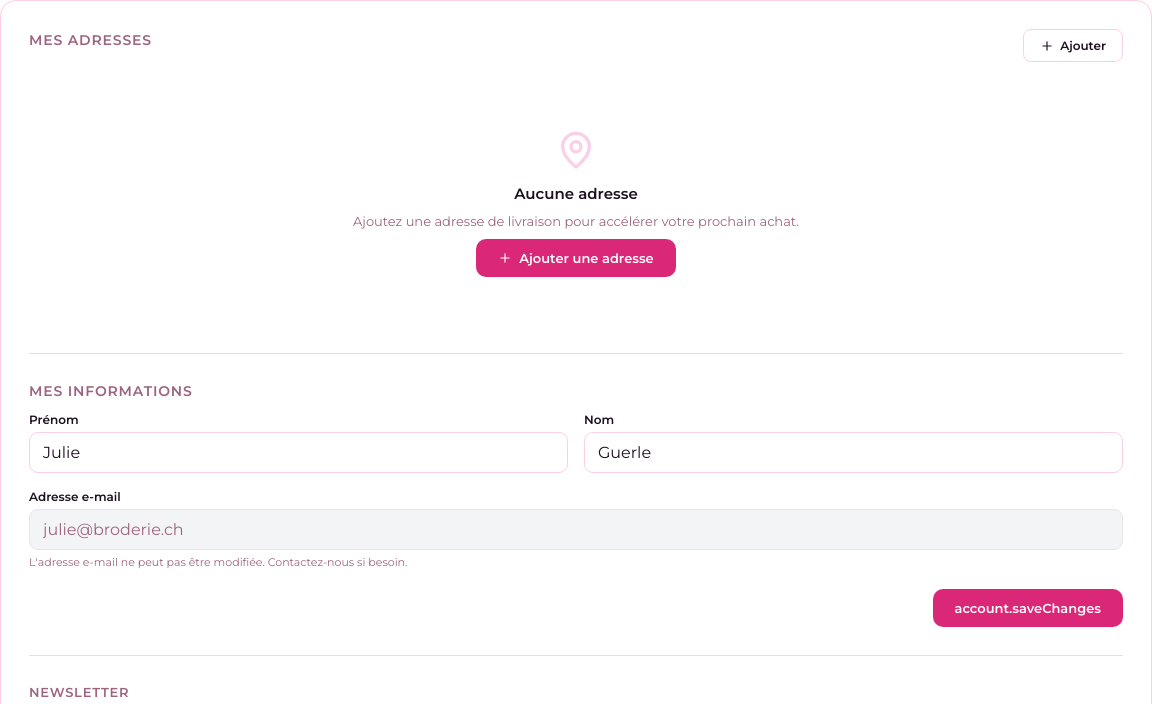
TabProfile — erreurs du serveur (CLI-06) › affiche sous le champ l'erreur de validation renvoyée par le serveur
The image size is (1152, 704).
Expected: the field labelled "Prénom" is shown, [29,432,568,473]
Step 1. Click the button "account.saveChanges" → point(1028, 608), box [932,589,1123,627]
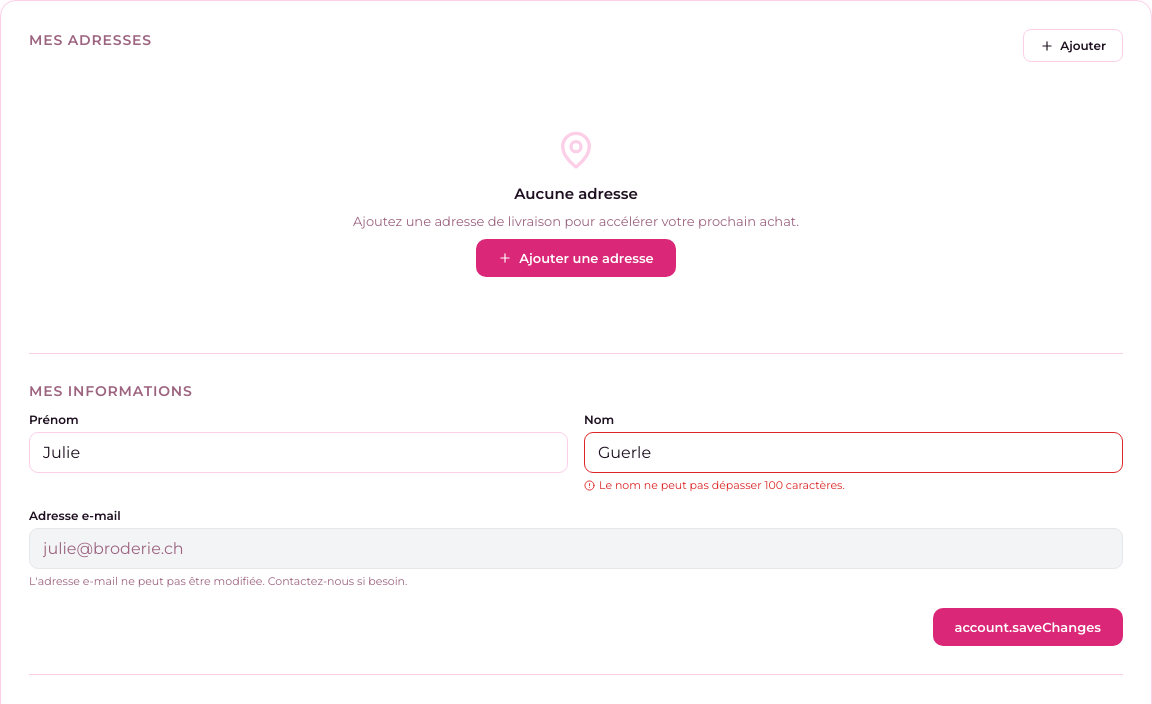
Expected: the text "Le nom ne peut pas dépasser 100 caractères." is shown, [584,478,845,492]
